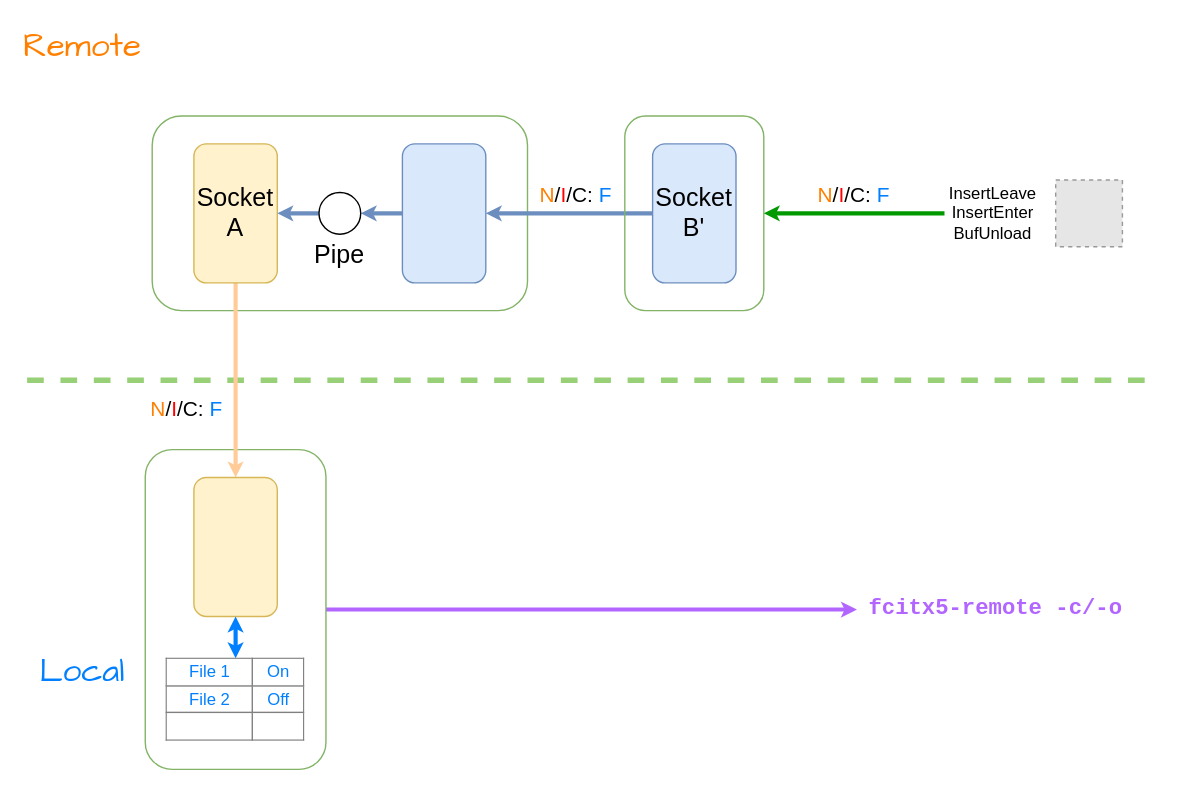
The diagram is 1182 pixels wide and 794 high, and some of its shapes have lost their labels. Grey dashed boxes stand in for pictures. The shapes that lost their labels are listed below. From the top down, each one's box as (x1, y1, x2, y2) in pixels, then its label:
(401, 142, 486, 283): Socket B
(193, 476, 277, 616): Socket A'
